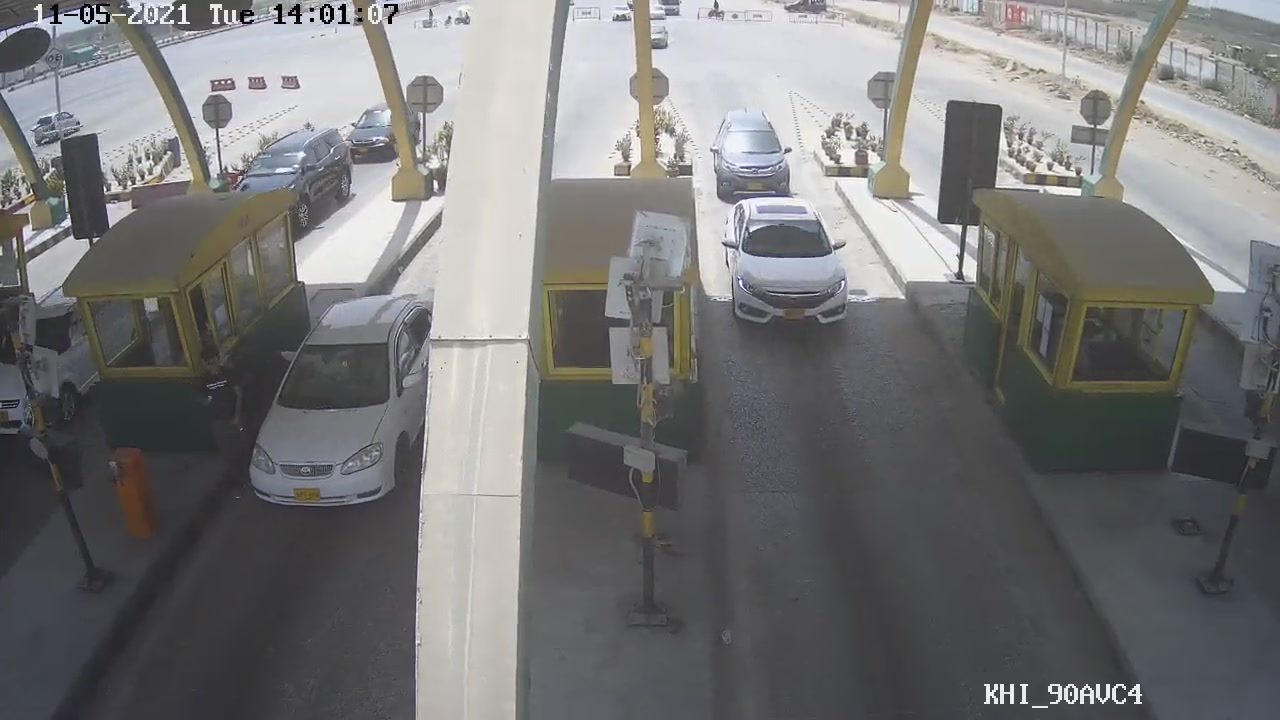F1: (716, 184, 859, 337)
